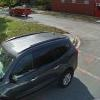Car: (3, 30, 91, 96)
